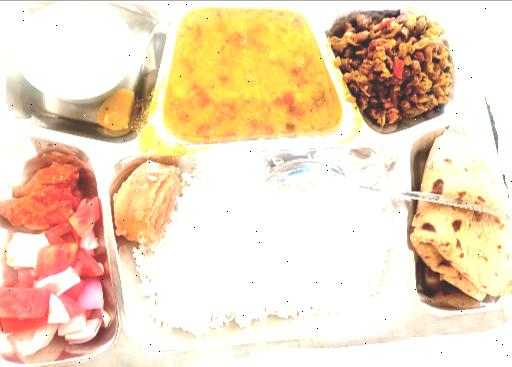Curd: (14, 0, 130, 97)
Dal: (167, 13, 334, 136)
Pickle: (0, 152, 69, 231)
Rice: (137, 162, 396, 324)
Roti: (410, 132, 512, 304)
Salad: (2, 238, 104, 351)
Sweet: (109, 160, 176, 246)
Vegetable: (338, 15, 460, 128)
